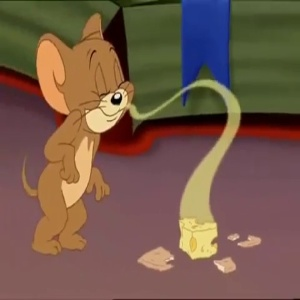Jerry: (32, 13, 150, 134)
